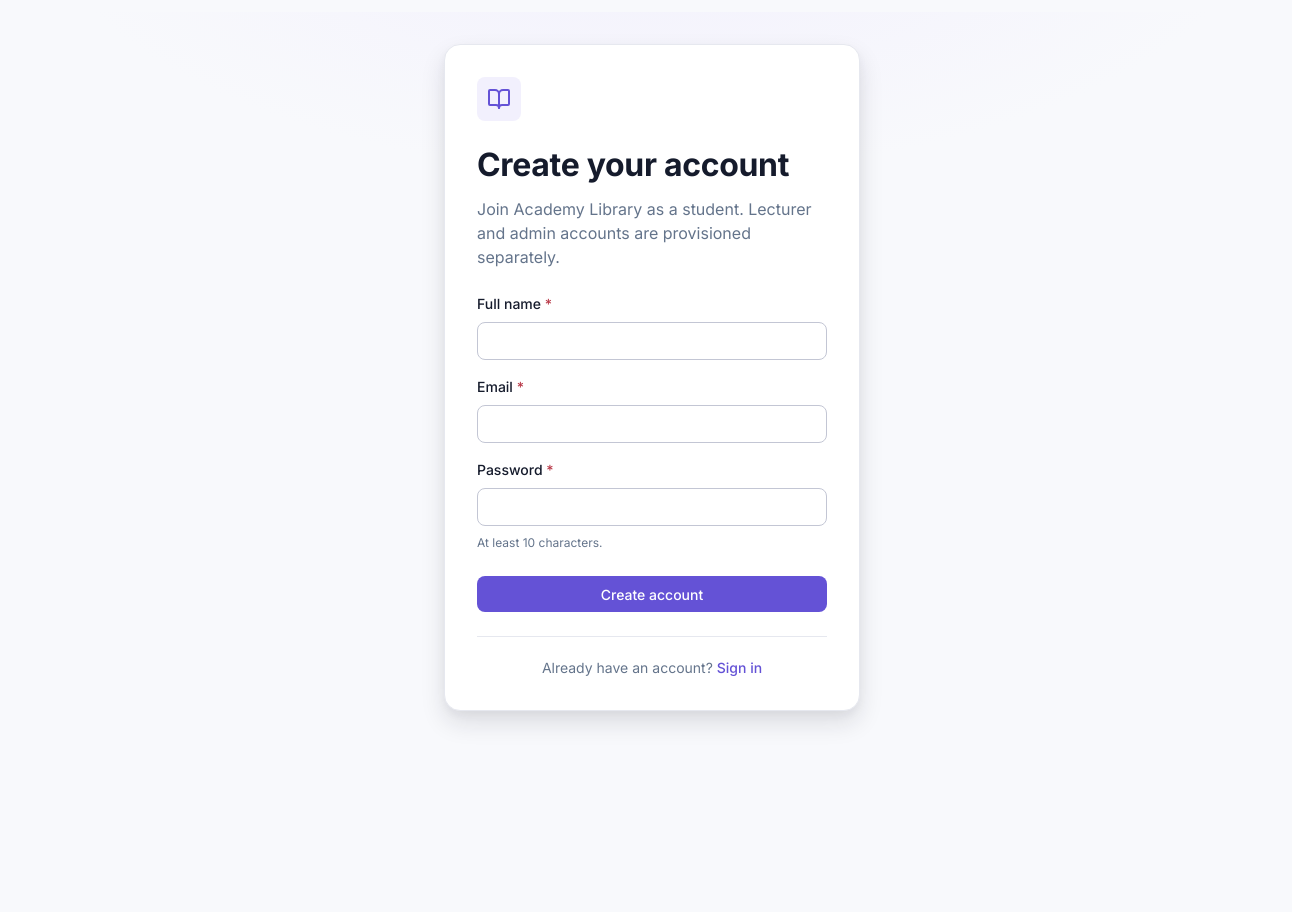
Test: RegisterPage › registers successfully and redirects to /login (no auto-login)
The image size is (1292, 912).
Type "Sam Student" into the field labelled "Full name *".
click(652, 341); type("Sam Student")  # box left=490, top=323, right=814, bottom=359
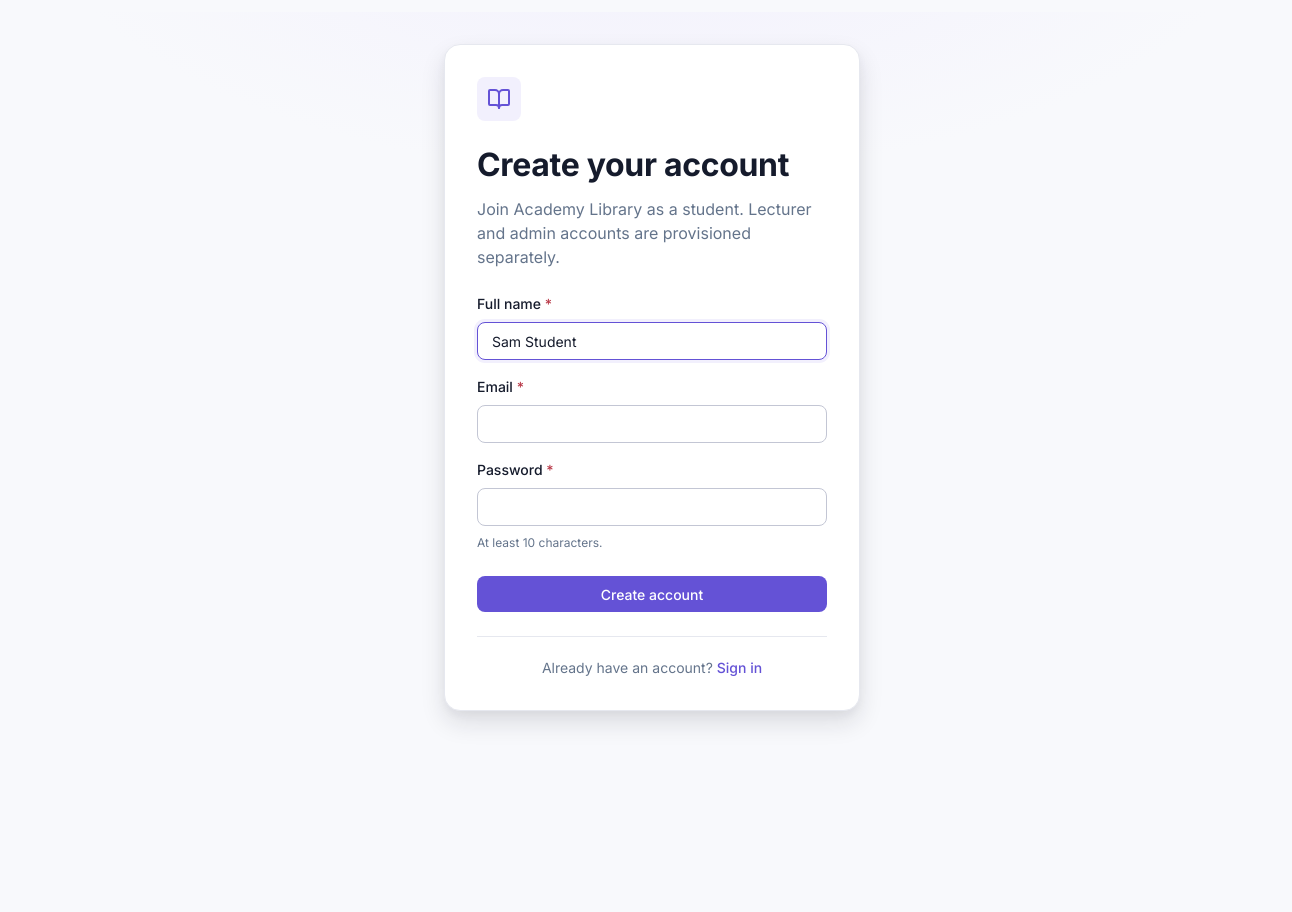
Type "sam.student@example.com" into the field labelled "Email *".
click(652, 424); type("sam.student@example.com")  # box left=490, top=406, right=814, bottom=442
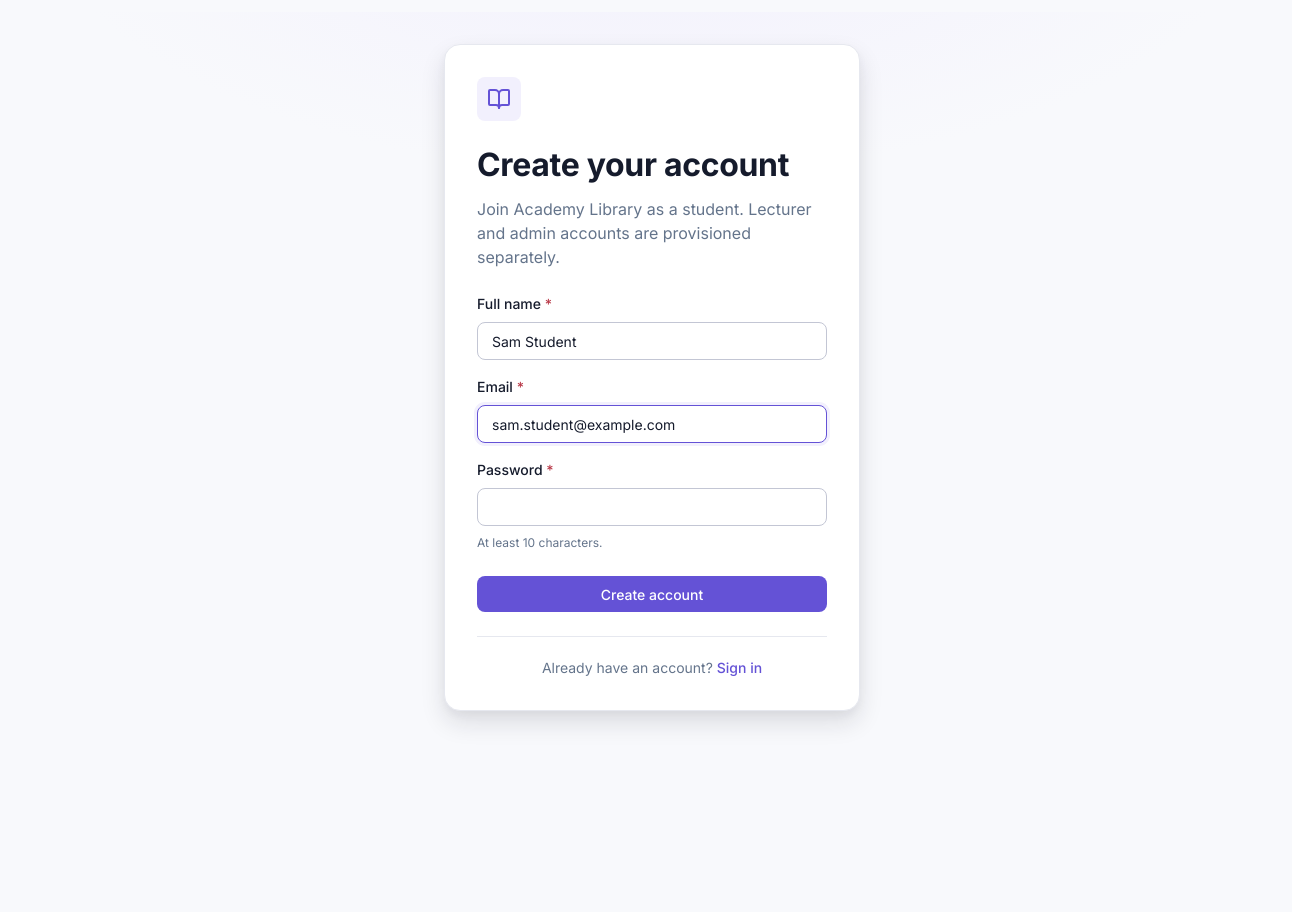
Type "a-long-enough-password" into the password field labelled "Password *".
click(652, 507); type("a-long-enough-password")  # box left=490, top=489, right=814, bottom=525
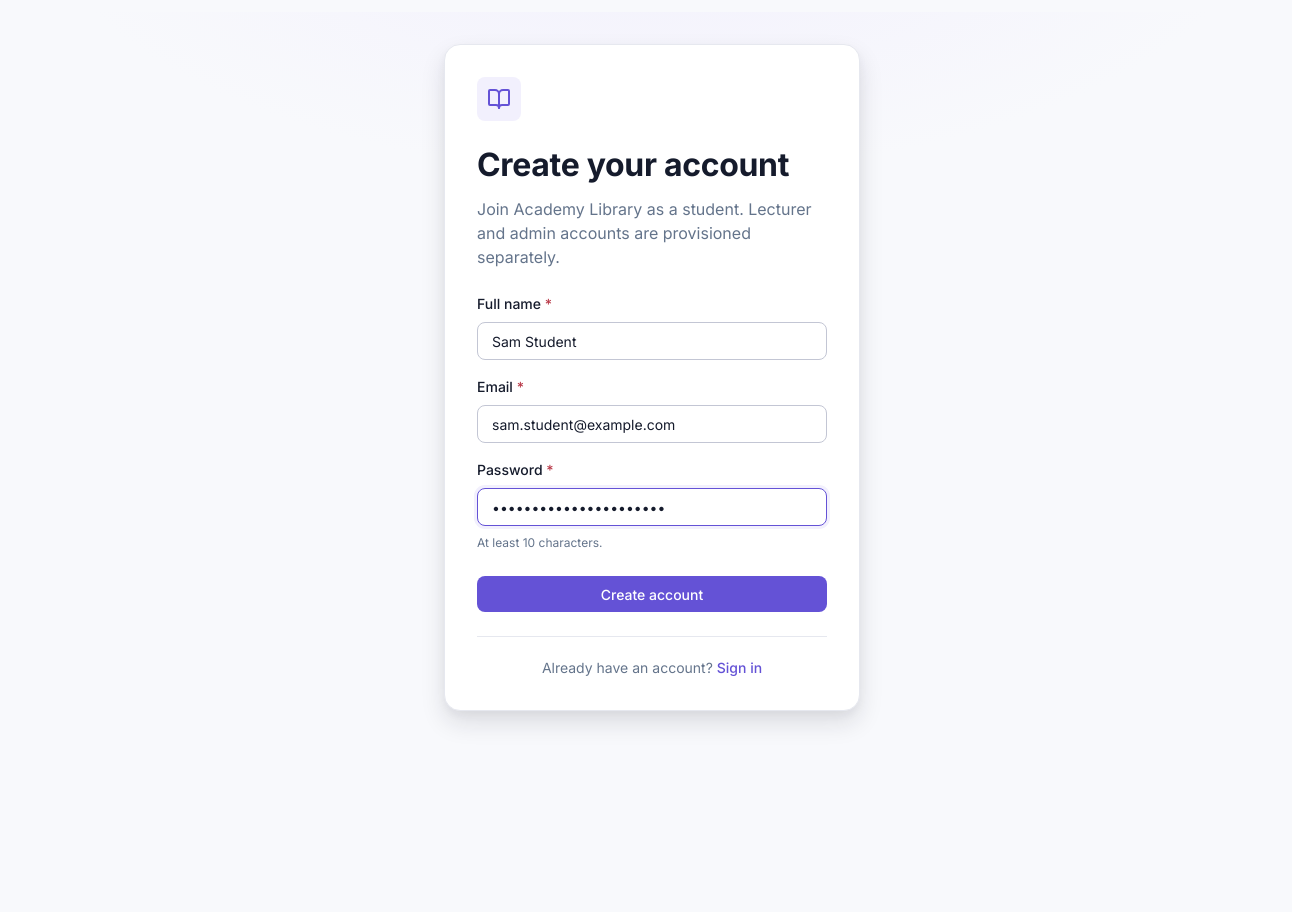
Click the button "Create account".
click(652, 594)  # box left=477, top=576, right=827, bottom=612
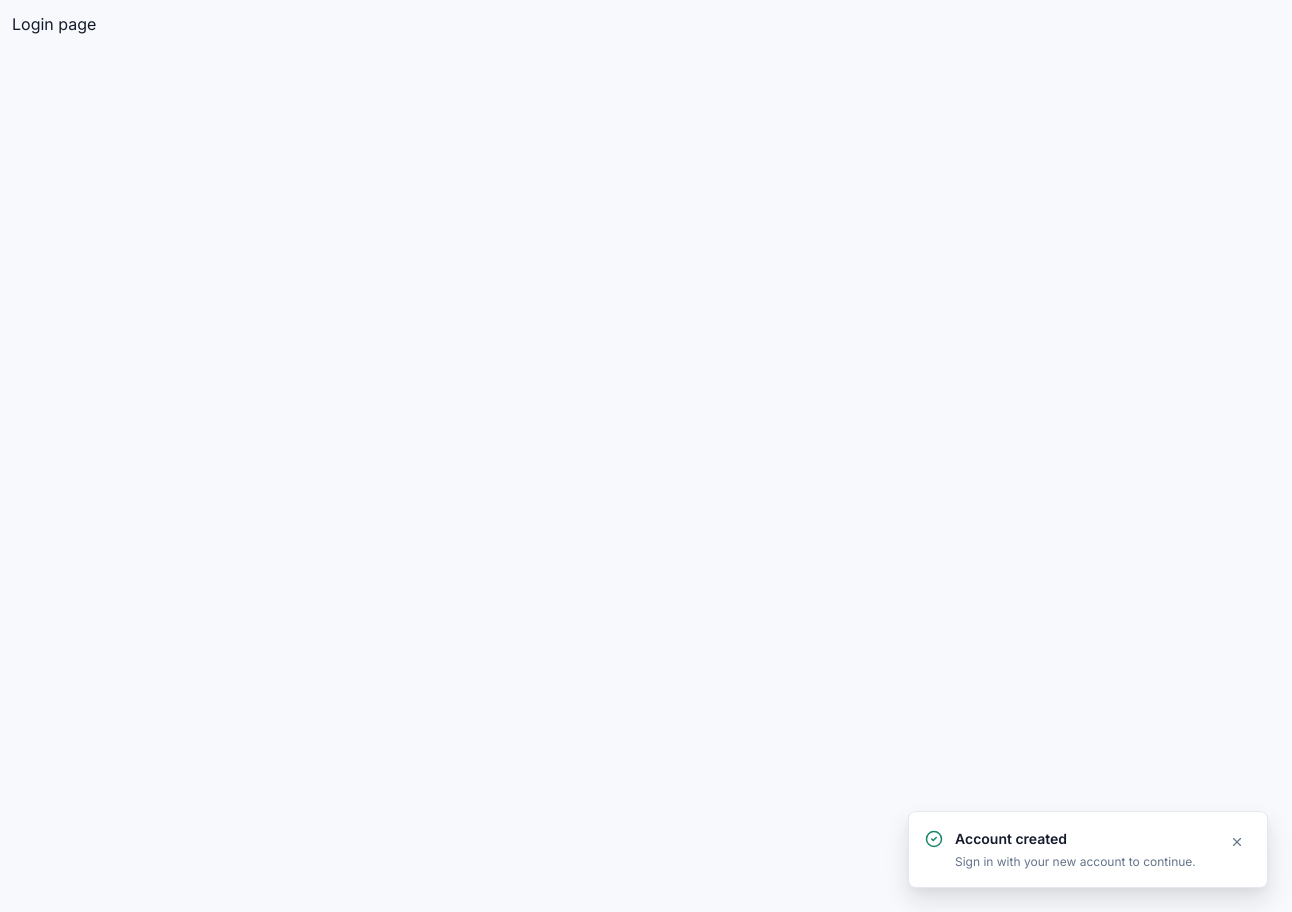
Expected: the text "Login page" is shown, left=12, top=14, right=96, bottom=34
